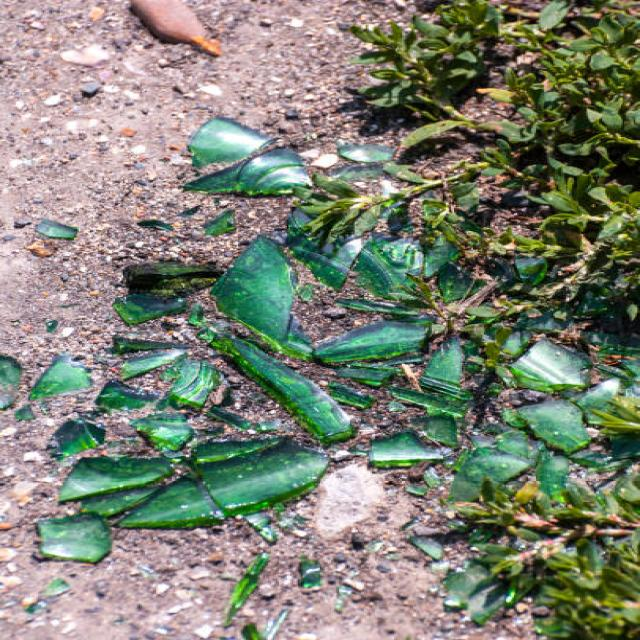electronic: (0, 106, 640, 561)
